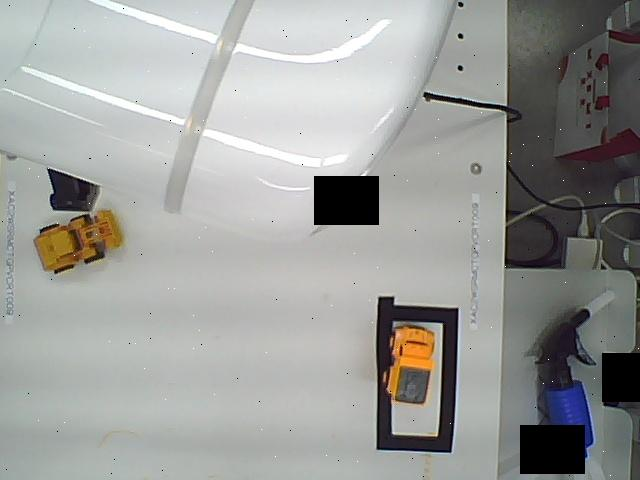Diesel car: (382, 325, 438, 407)
Gasoline car: (26, 211, 125, 278)
